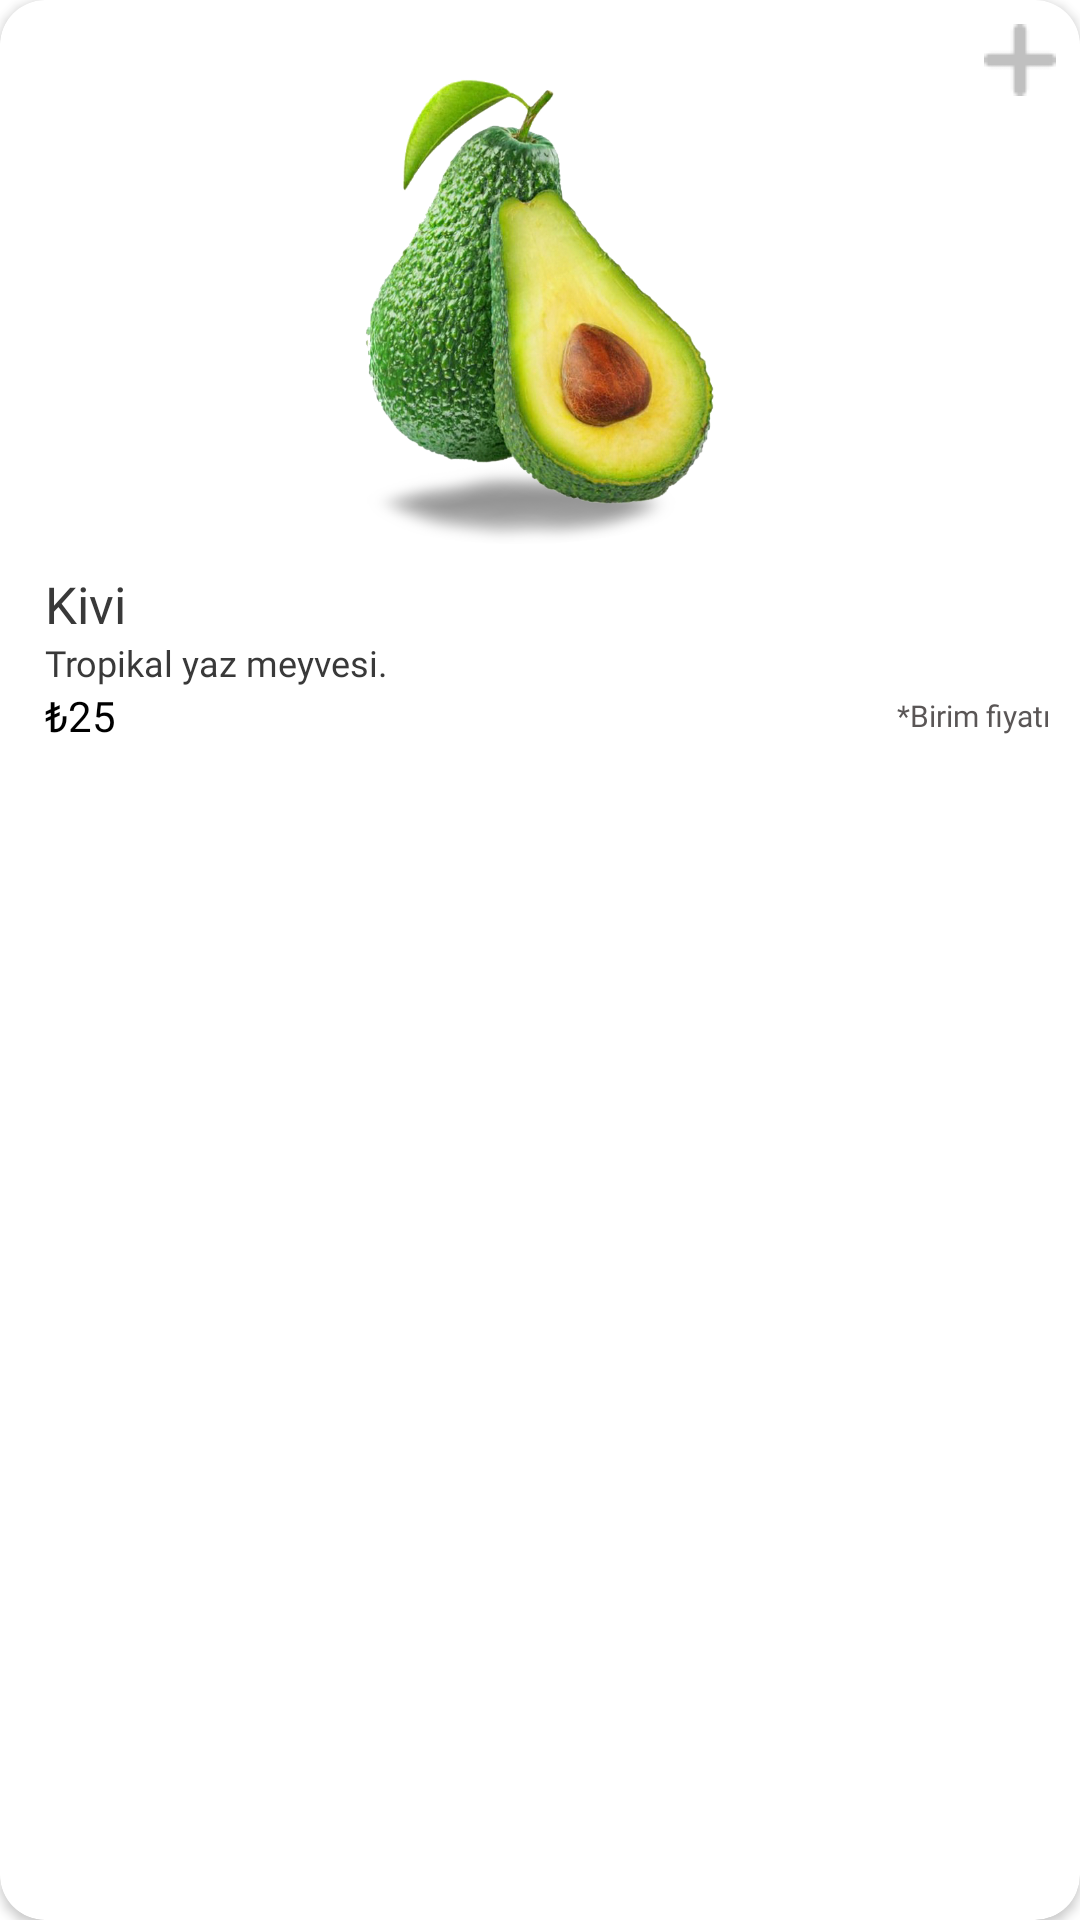

Icons on this 1080px x 1920px Android screen, each with its box as BBox(x1, y1, x2, y2):
plus: BBox(984, 24, 1080, 96)
